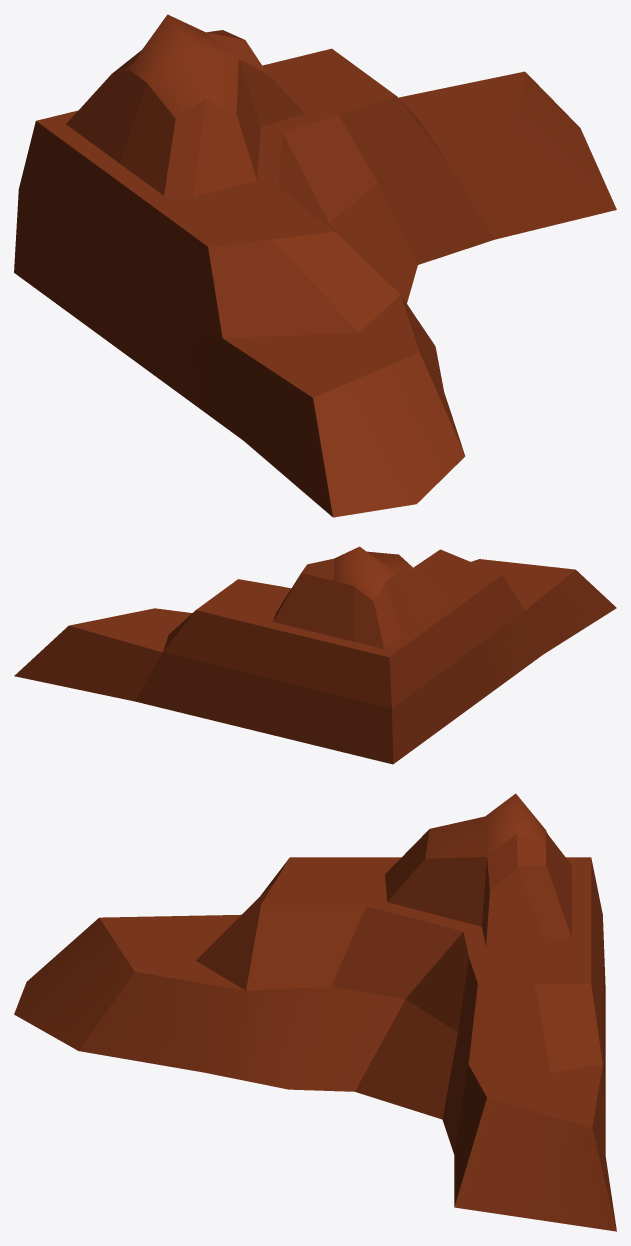
The model's file is Mountain.FBX.
3 renders of one model, top to bottom at view 1: azimuth 30°, elevation 25°; view 2: azimuth 150°, elevation 25°; view 3: azimuth 270°, elevation 25°, orthographic. The views are drawn at different scales.
Parts seen in each view (by area): view 1: Box003; view 2: Box003; view 3: Box003.
Part boxes in pixels (left/top/right/bottom): Box003: left=14, top=14, right=616, bottom=517; Box003: left=14, top=546, right=616, bottom=764; Box003: left=14, top=793, right=616, bottom=1231.
Bounding box in the file's own units: 419 × 185 × 427.
